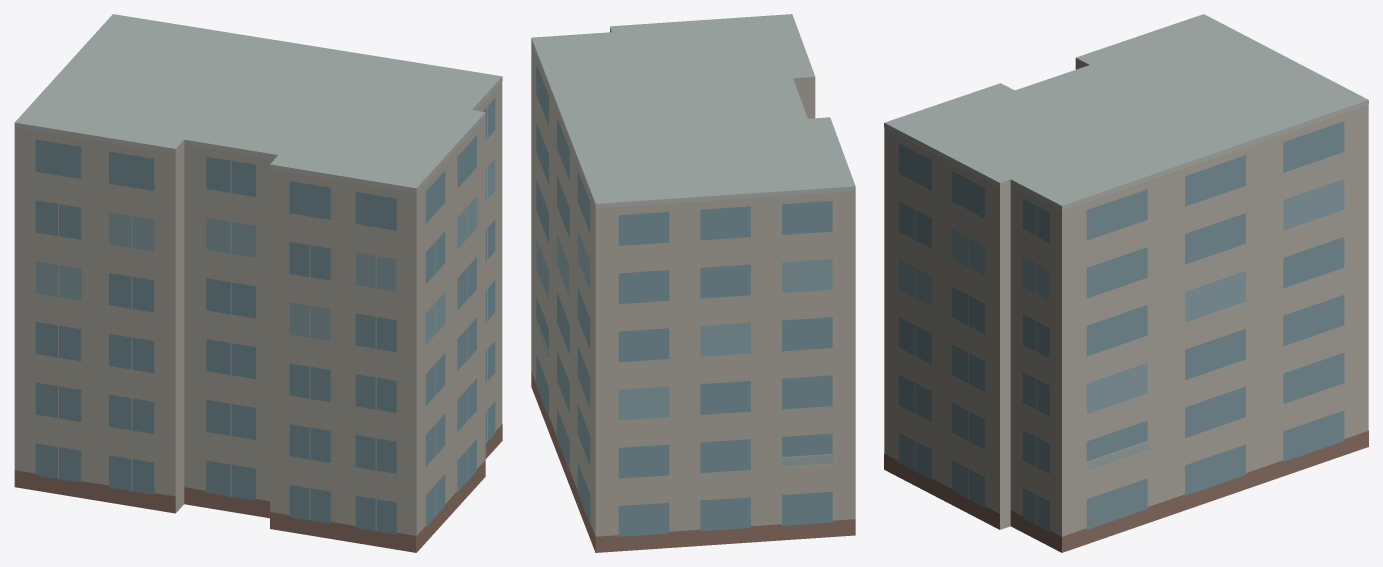
Rendered from survey-upis-32727571.glb.
The picture shows the model from 3 angles, left to right: view 1: azimuth 30°, elevation 25°; view 2: azimuth 150°, elevation 25°; view 3: azimuth 270°, elevation 25°; orthographic projection. The views are drawn at different scales.
Parts seen in each view (by area): view 1: survey-upis-32727571.tmp; view 2: survey-upis-32727571.tmp; view 3: survey-upis-32727571.tmp.
Part boxes in pixels (x1=…): survey-upis-32727571.tmp: x1=14, y1=14, x2=502, y2=552; survey-upis-32727571.tmp: x1=531, y1=14, x2=855, y2=552; survey-upis-32727571.tmp: x1=884, y1=14, x2=1368, y2=552.
Size of the model in its own units: 21.13 by 17.8 by 22.54.
